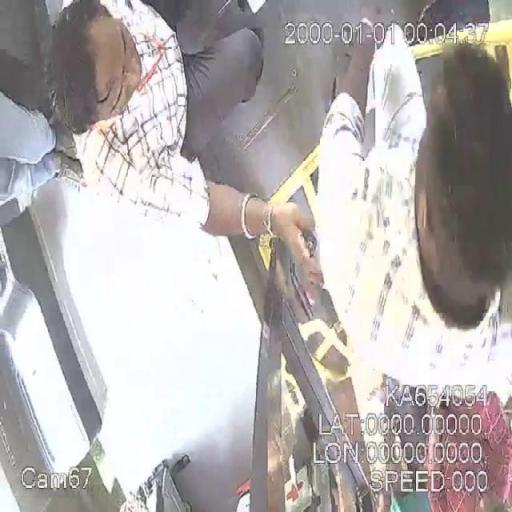persona: (40, 1, 319, 282), (319, 0, 510, 393)
